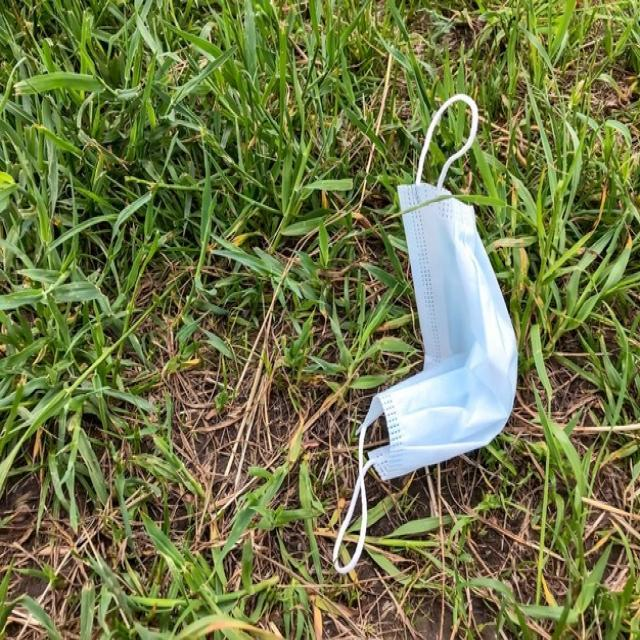face mask: (332, 93, 516, 576)
